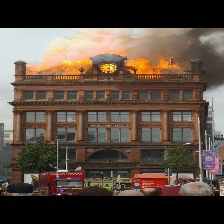fire: (26, 58, 187, 78)
smoke: (44, 31, 224, 62)
